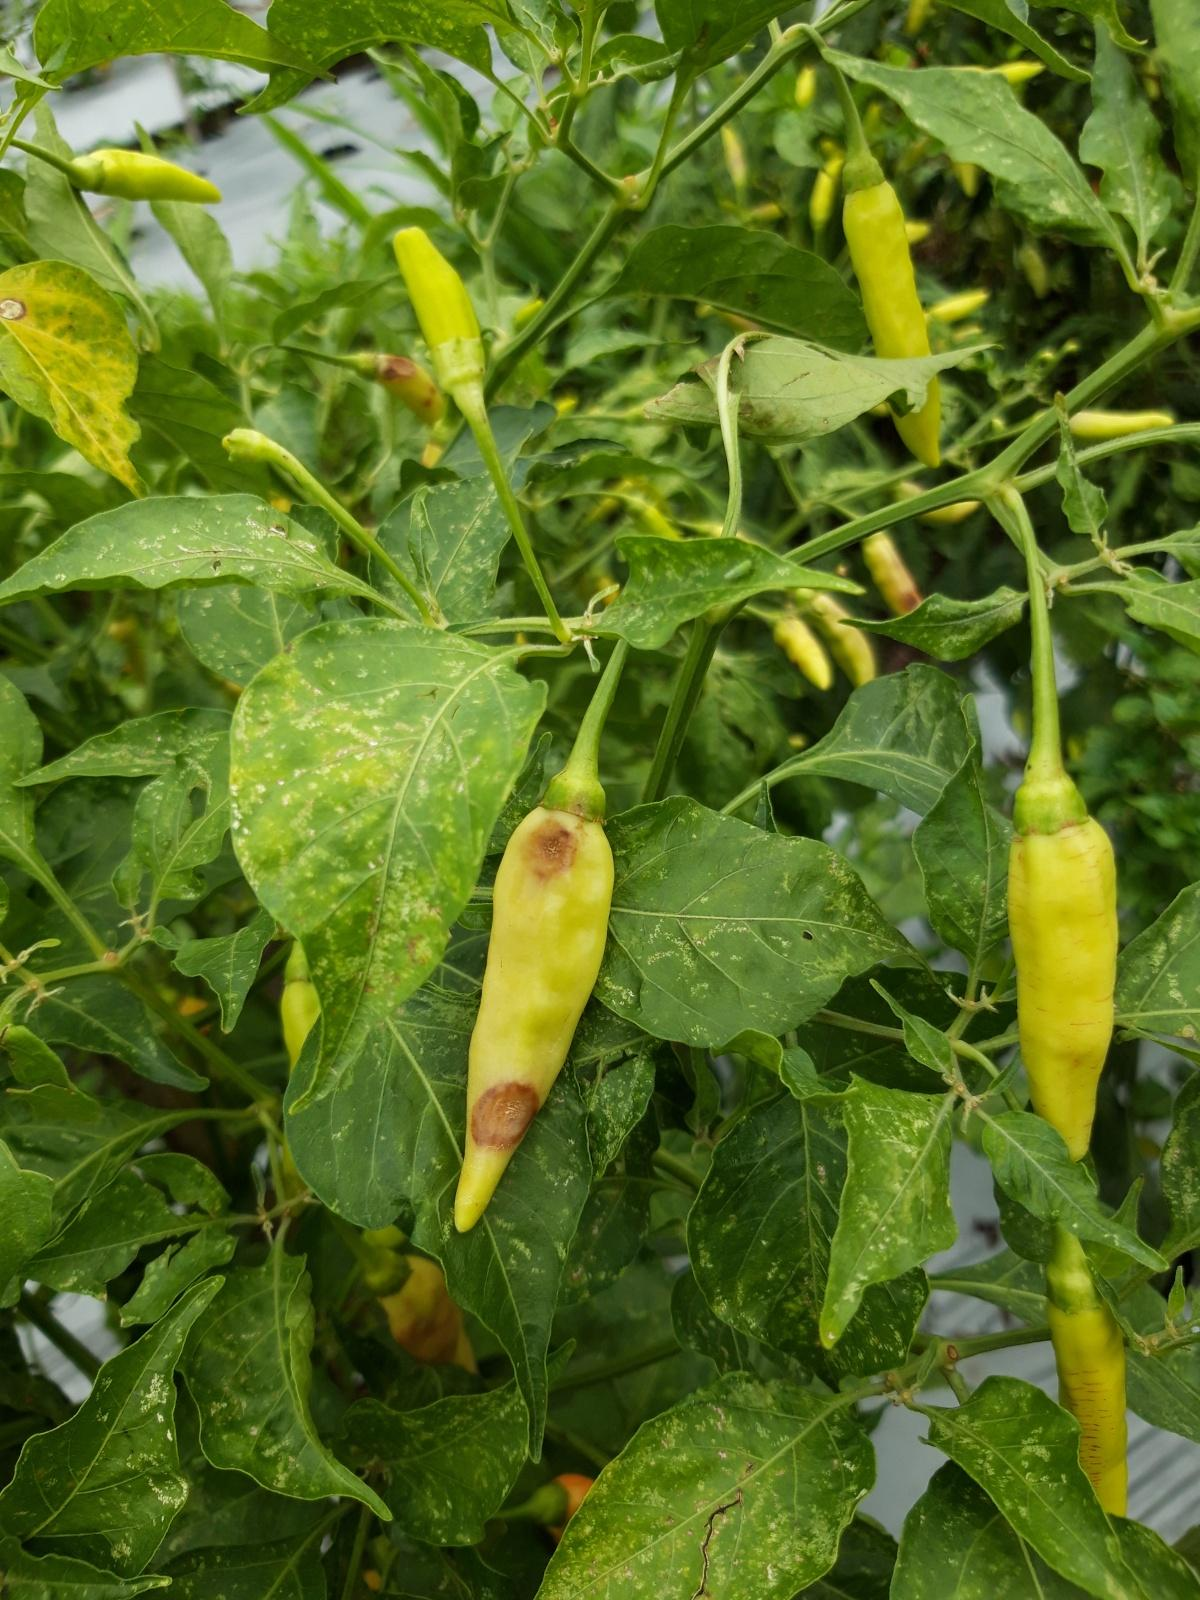cabai_normal: (1007, 784, 1117, 1163), (842, 157, 940, 467), (1046, 1267, 1127, 1522), (393, 226, 485, 409), (71, 147, 221, 204)
lalat_buah: (451, 775, 613, 1235), (355, 354, 442, 423)
